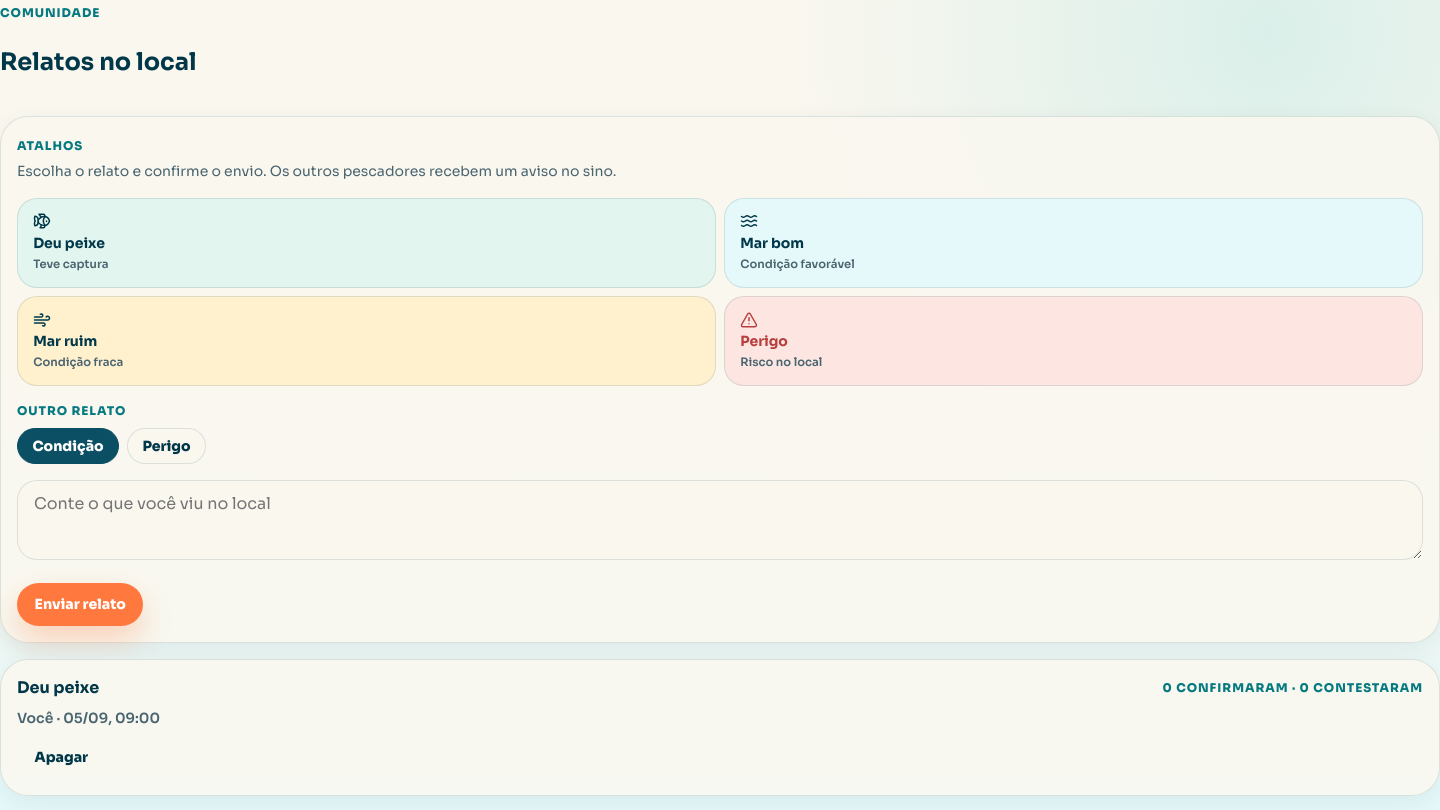
Scenario: CommunityReports › cancela a exclusão sem apagar o relato
Click the button "Apagar". click: (61, 758)
box: [17,737,106,779]
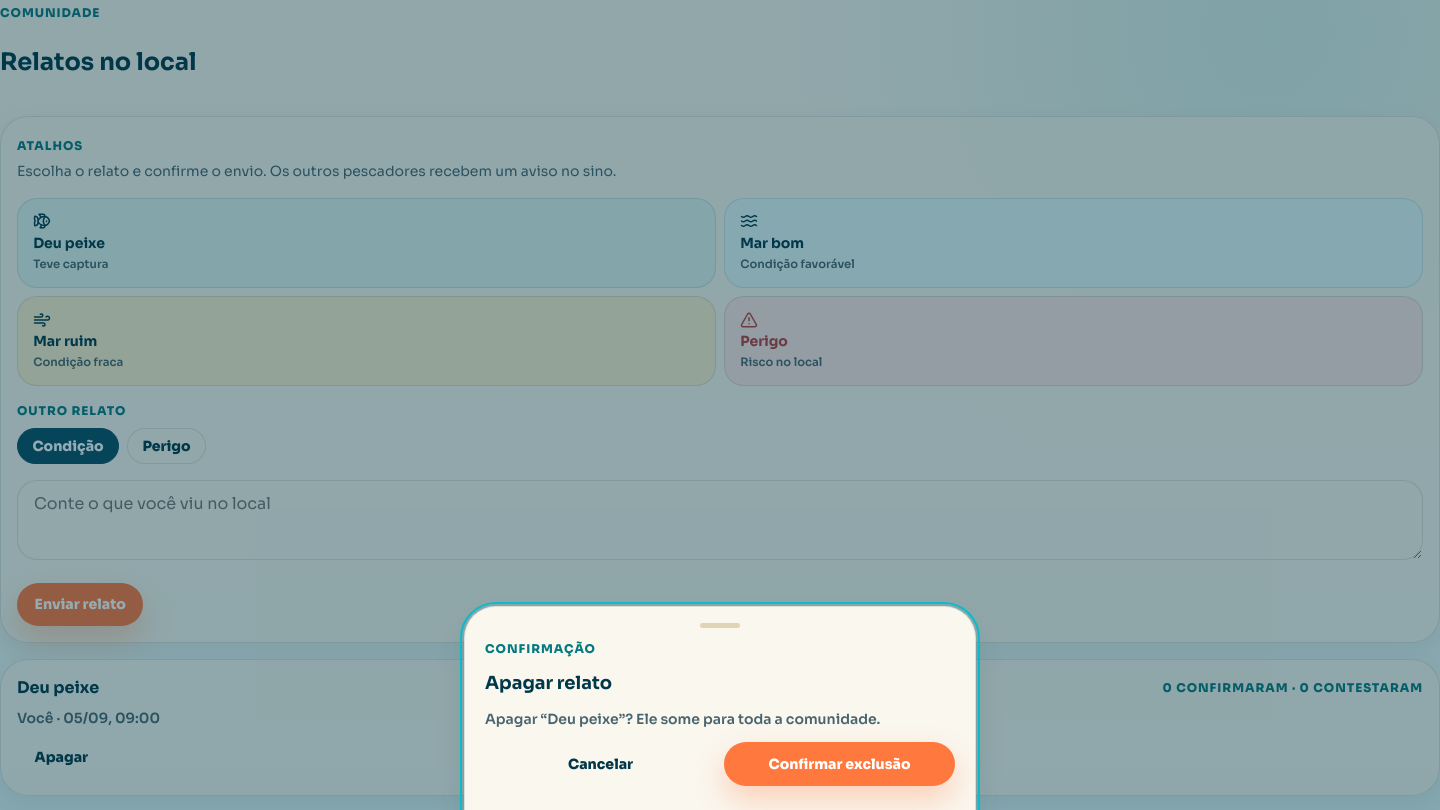
Click the button "Cancelar". click: (600, 764)
box: [485,742,716,786]
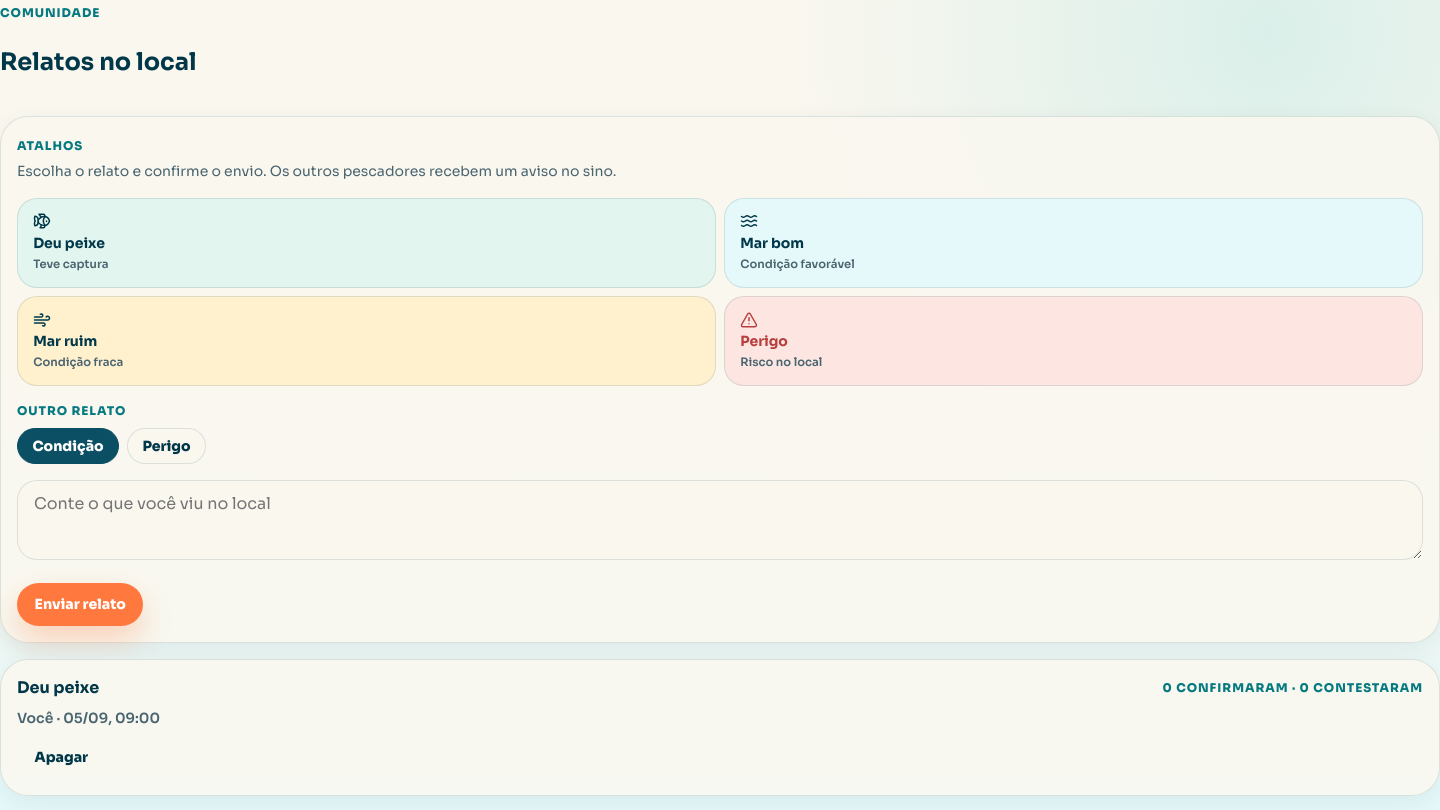
Check: the button "Apagar" is shown, box [17,737,106,779]
Check: the button "Confirmar exclusão" is gone
